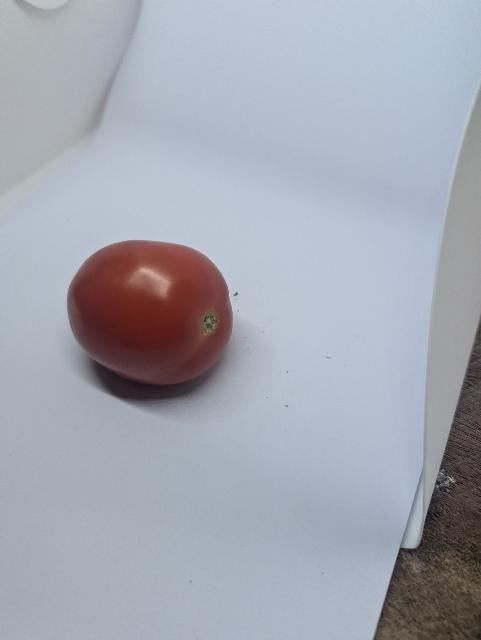red: (61, 227, 250, 420)
